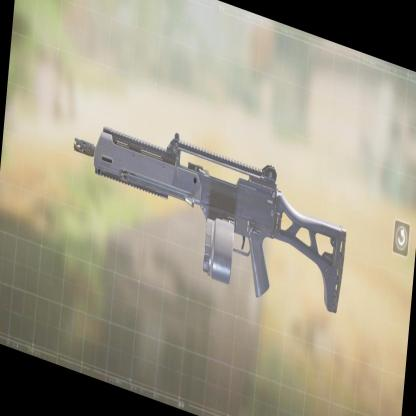rifle: (67, 94, 358, 349)
